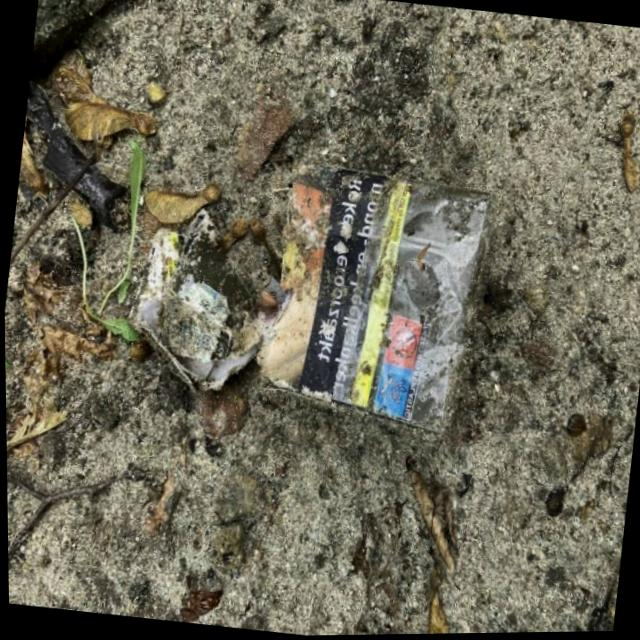Paper: (107, 135, 503, 452)
